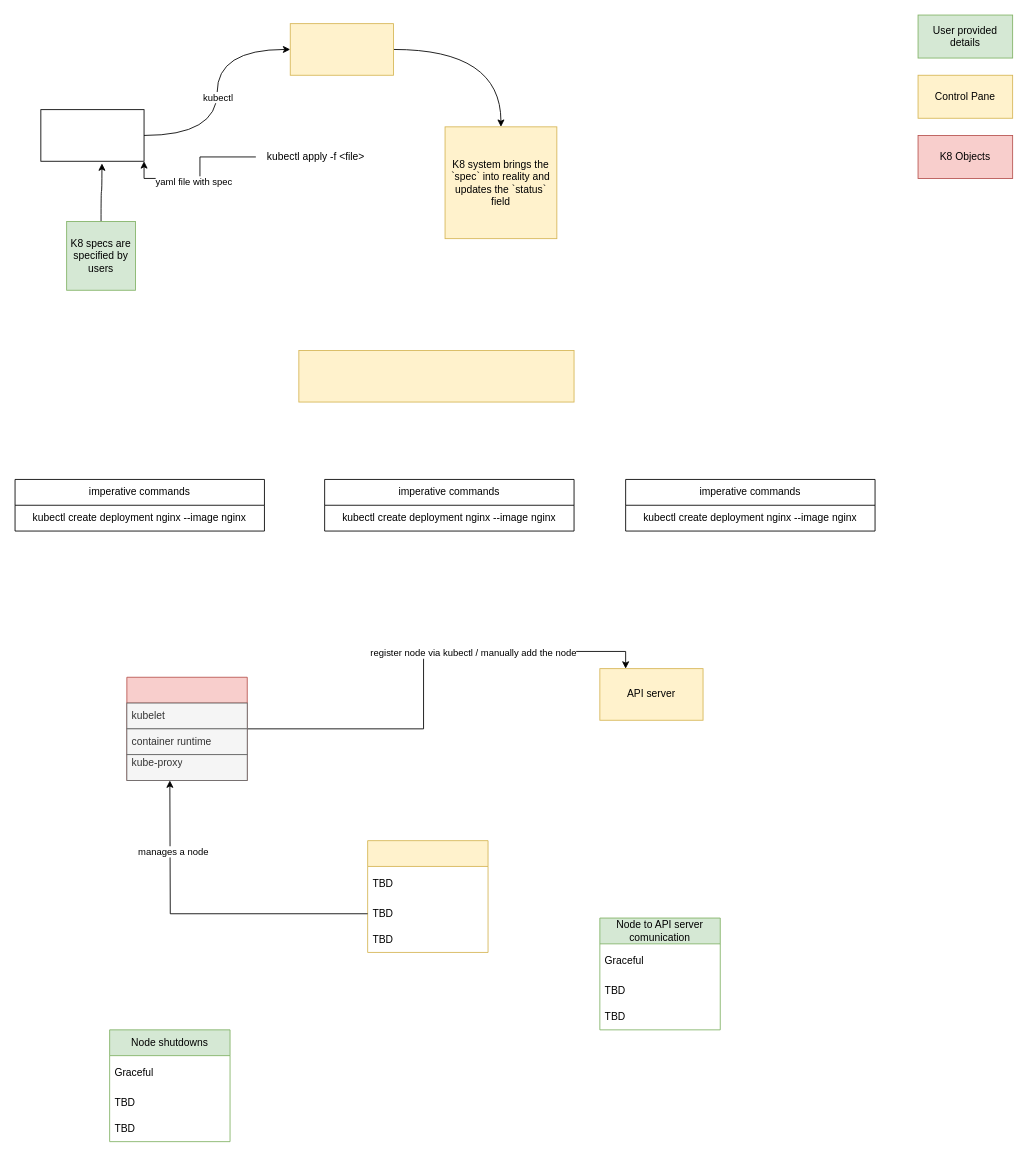
The diagram is 1028 pixels wide and 1157 high, and some of its shapes have lost their labels. Each missing label, with the box of its shape:
A K8 worker node components: (126, 676, 247, 780)
K8 objects desired state ( by yaml): (40, 109, 144, 161)
K8 objects management styles: (298, 350, 574, 402)
Node controller: (367, 840, 488, 952)
Persisted into K8 system: (289, 23, 393, 75)
